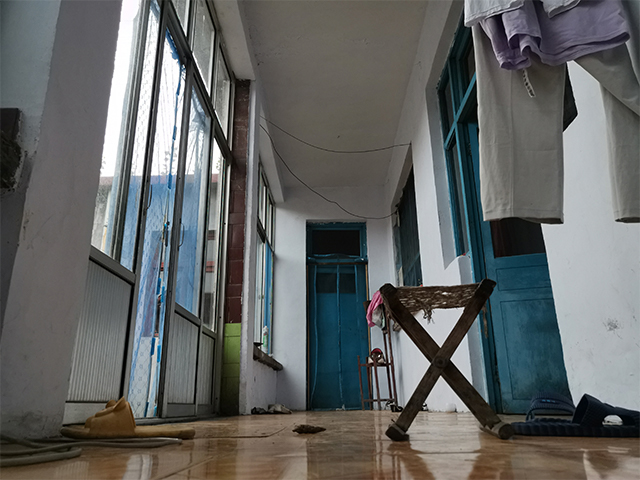feces: (291, 422, 328, 435)
slippers: (505, 392, 640, 439), (62, 394, 196, 441)
stool: (378, 278, 516, 442)
wire: (1, 431, 184, 469)
